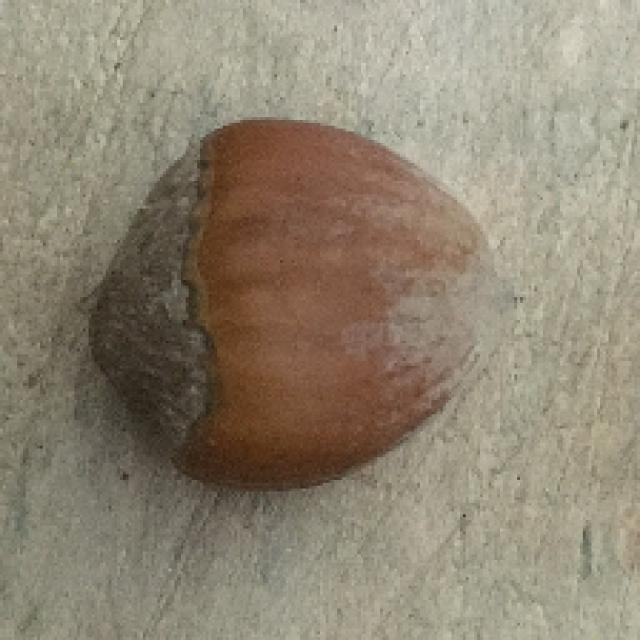qualityHazelnut: (79, 119, 509, 496)
